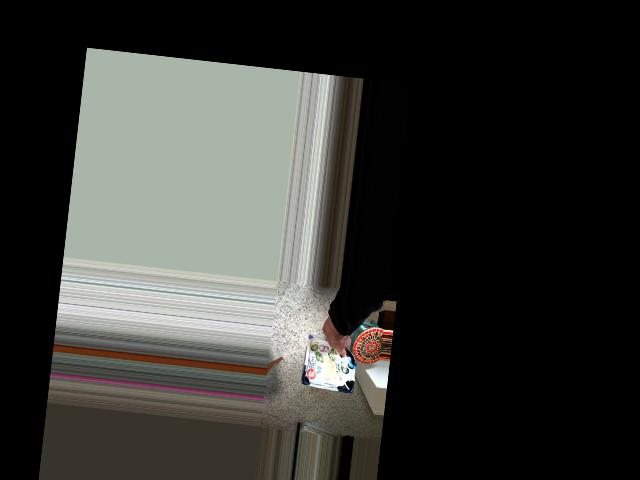cheese: (294, 318, 367, 391)
